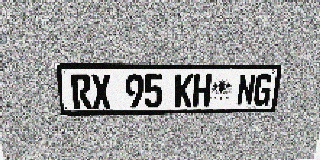5: (145, 74, 163, 108)
9: (125, 74, 144, 108)
G: (252, 74, 273, 106)
H: (192, 74, 212, 107)
K: (175, 74, 194, 107)
N: (236, 74, 256, 106)
R: (70, 74, 92, 109)
X: (91, 74, 111, 109)
